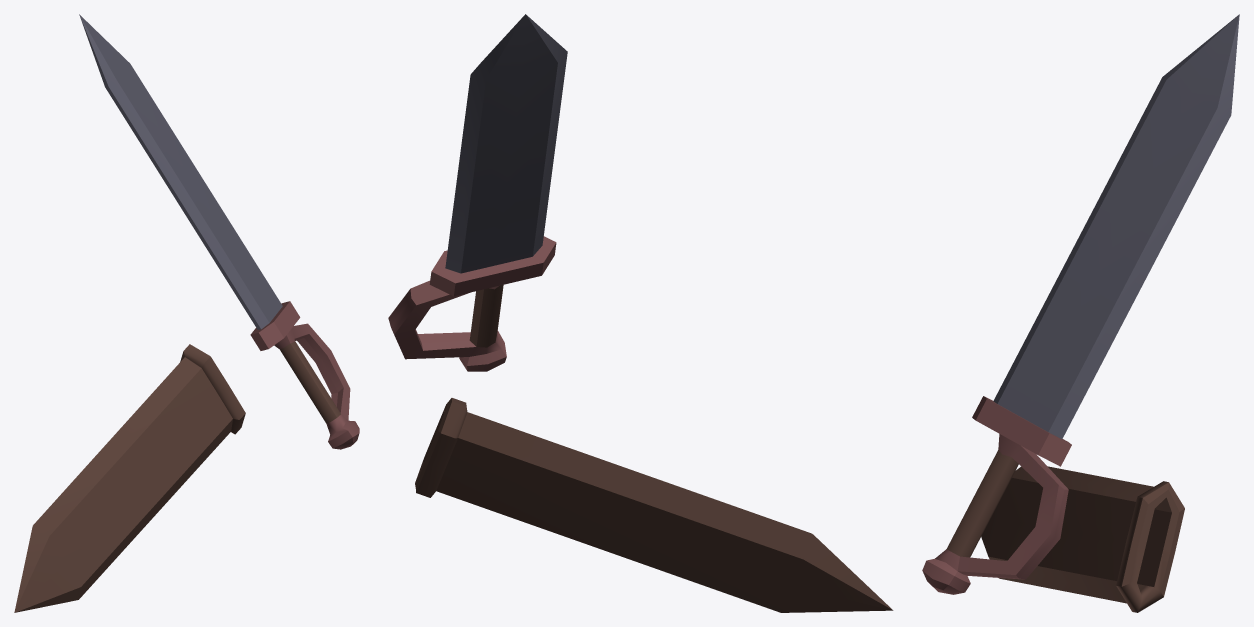
The model's file is BufosWeapons.fbx.
3 views of the same model, side by side, from view 1: azimuth 30°, elevation 25°; view 2: azimuth 150°, elevation 25°; view 3: azimuth 270°, elevation 25° (orthographic). The views are drawn at different scales.
Visible parts, largest first — view 1: skabbard, sword; view 2: skabbard, sword; view 3: sword, skabbard.
Part boxes in pixels (<box>): skabbard: <box>14,344,245,612</box>; sword: <box>79,14,359,449</box>; skabbard: <box>415,398,893,612</box>; sword: <box>388,14,567,371</box>; sword: <box>922,14,1239,594</box>; skabbard: <box>981,466,1184,612</box>.
Size of the model in its own units: 663 by 886 by 409.
